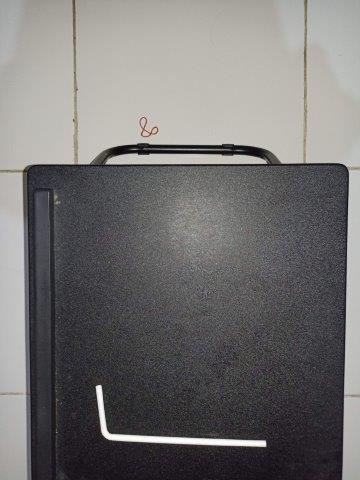karet: (138, 115, 158, 138)
sedotan: (95, 384, 266, 448)
